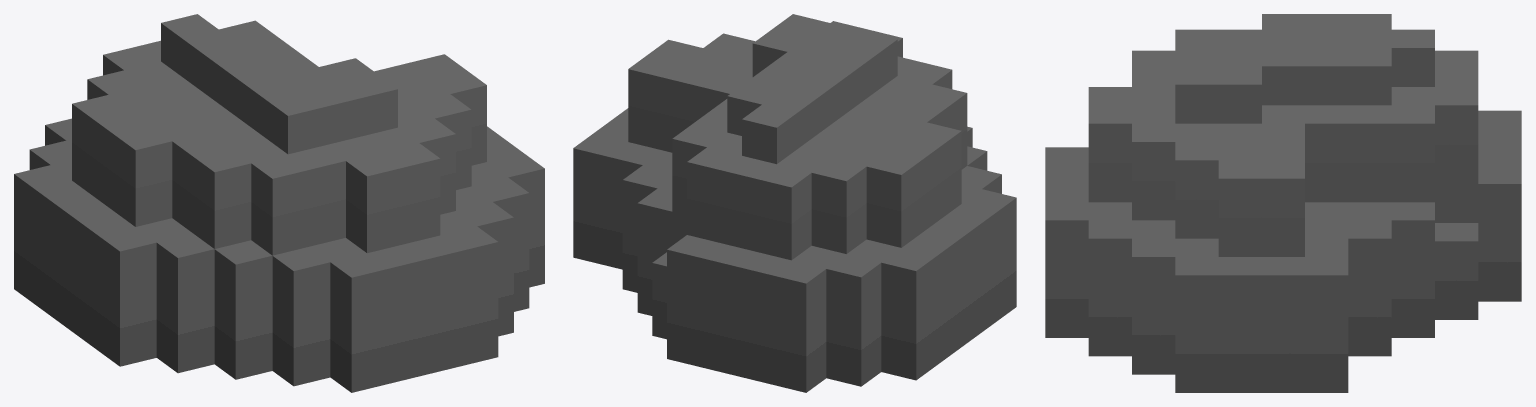
File: rock_medium.fbx
3 renders of one model, left to right at view 1: azimuth 30°, elevation 25°; view 2: azimuth 150°, elevation 25°; view 3: azimuth 270°, elevation 25°, orthographic. The views are drawn at different scales.
Parts seen in each view (by area): view 1: rock_medium; view 2: rock_medium; view 3: rock_medium.
Boxes of the visible parts, x1,y1,x2,y2 form: rock_medium: (14,14,544,392); rock_medium: (573,14,1016,392); rock_medium: (1045,14,1521,392).
Size of the model in its own units: 95.8 by 52.25 by 95.8.
1 material, 1 textured.
